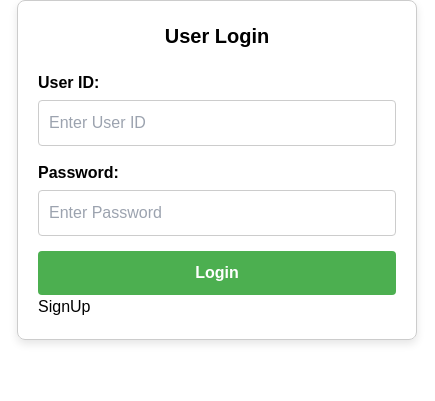
Login Component › should display valid result message for correct credentails
Type "admin" into the field with placeholder "Enter User ID" at (217, 123), box [38,100,396,146]
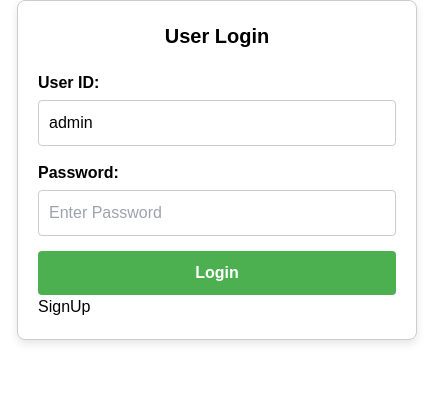
Type "admin123" into the password field with placeholder "Enter Password" at (217, 213), box [38,190,396,236]
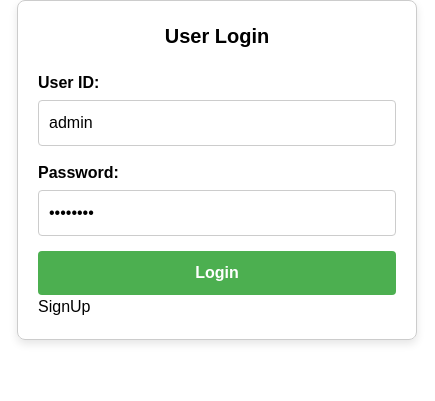
Click the button "Login" at (217, 273), box [38,251,396,295]
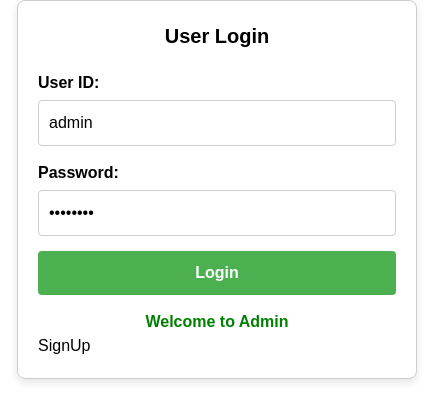
Expected: the text "Welcome to Admin" is shown, [145,313,288,330]
